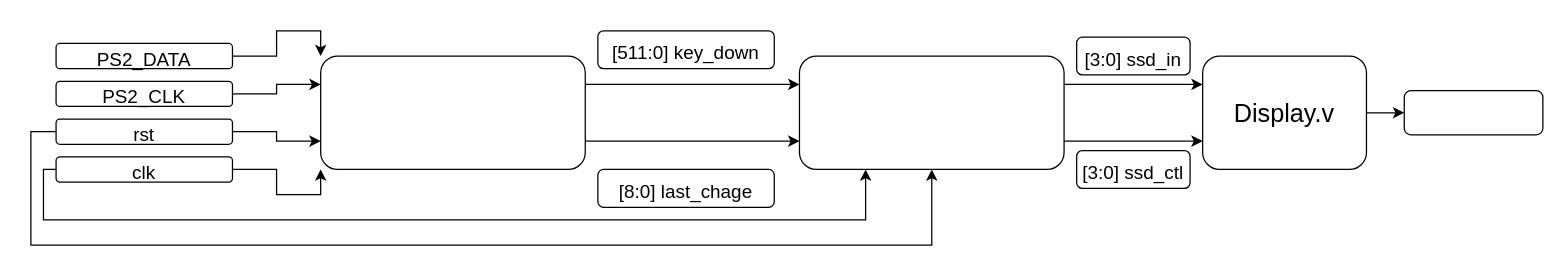
This 1565x277 diagram has some shape labels left out. The shapes that lost their labels are listed below. From the top down, each one's centre as x and y in pixels, then its label:
(452,112): Keyboard_Decorder.v
(931,112): Keyboard_Eecorder.v
(1473,112): [7:0] segs
